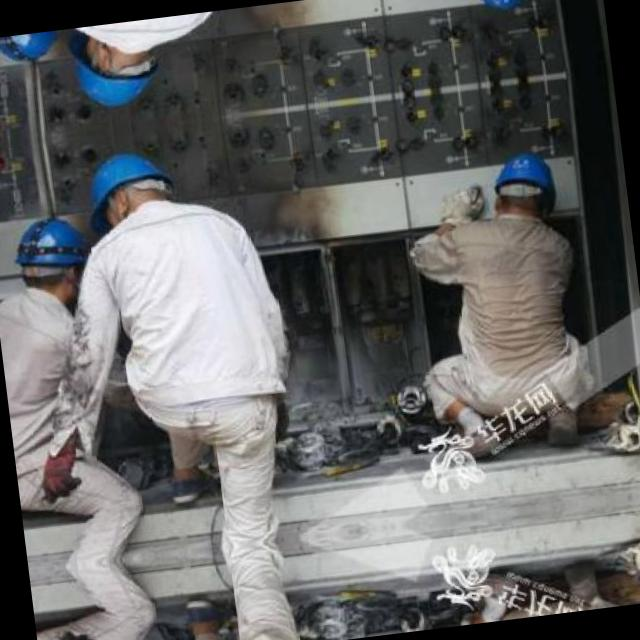helmet: (79, 141, 181, 238), (64, 19, 166, 116), (11, 208, 93, 308), (485, 148, 560, 228), (0, 29, 64, 70), (462, 0, 534, 17)
